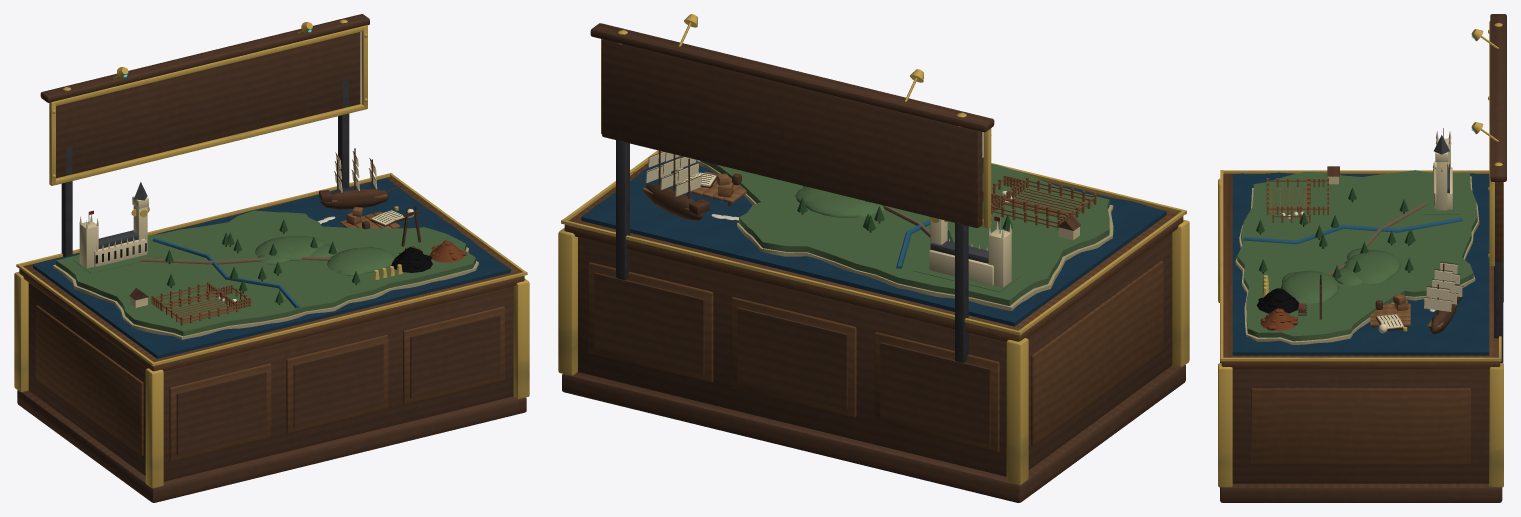
Rendered from england_diorama.glb.
3 renders of one model, left to right at view 1: azimuth 30°, elevation 25°; view 2: azimuth 150°, elevation 25°; view 3: azimuth 270°, elevation 25°, orthographic. The views are drawn at different scales.
Parts seen in each view (by area): view 1: mrg_england_diorama_woodDark, mrg_england_diorama_land, mrg_england_diorama_oakPainted, mrg_england_diorama_brass, mrg_england_diorama_sea, mrg_parliament_stoneBeige, mrg_fence_wood, mrg_england_diorama_iron, landShore, mrg_ship_woodDark, mrg_england_diorama_tree, mrg_england_diorama_coalLump (+5 smaller); view 2: mrg_england_diorama_woodDark, mrg_england_diorama_oakPainted, mrg_england_diorama_land, mrg_england_diorama_brass, mrg_england_diorama_sea, mrg_england_diorama_iron, mrg_fence_wood, mrg_parliament_stoneBeige, landShore, mrg_ship_woodDark, mrg_ship_canvas, mrg_england_diorama_wood; view 3: mrg_england_diorama_land, mrg_england_diorama_oakPainted, mrg_england_diorama_woodDark, mrg_england_diorama_sea, mrg_england_diorama_brass, mrg_ship_canvas, mrg_fence_wood, landShore, mrg_parliament_stoneBeige, mrg_england_diorama_tree, river, mrg_england_diorama_iron (+6 smaller).
Part boxes in pixels (left/top/right/bottom): mrg_england_diorama_woodDark: left=17, top=14, right=526, bottom=502; mrg_england_diorama_land: left=56, top=210, right=475, bottom=336; mrg_england_diorama_oakPainted: left=19, top=177, right=524, bottom=461; mrg_england_diorama_brass: left=14, top=19, right=529, bottom=488; mrg_england_diorama_sea: left=33, top=178, right=510, bottom=358; mrg_parliament_stoneBeige: left=79, top=196, right=148, bottom=268; mrg_fence_wood: left=151, top=282, right=251, bottom=325; mrg_england_diorama_iron: left=61, top=79, right=349, bottom=256; landShore: left=52, top=247, right=478, bottom=339; mrg_ship_woodDark: left=319, top=148, right=402, bottom=209; mrg_england_diorama_tree: left=165, top=219, right=360, bottom=303; mrg_england_diorama_coalLump: left=391, top=247, right=432, bottom=272; mrg_england_diorama_woodDark: left=562, top=23, right=1185, bottom=502; mrg_england_diorama_oakPainted: left=564, top=163, right=1183, bottom=452; mrg_england_diorama_land: left=700, top=160, right=1109, bottom=305; mrg_england_diorama_brass: left=558, top=14, right=1189, bottom=484; mrg_england_diorama_sea: left=581, top=156, right=1166, bottom=326; mrg_england_diorama_iron: left=616, top=139, right=968, bottom=362; mrg_fence_wood: left=982, top=175, right=1096, bottom=230; mrg_parliament_stoneBeige: left=929, top=217, right=1011, bottom=287; landShore: left=697, top=160, right=1113, bottom=310; mrg_ship_woodDark: left=633, top=150, right=709, bottom=220; mrg_ship_canvas: left=645, top=152, right=701, bottom=196; mrg_england_diorama_wood: left=688, top=171, right=746, bottom=203; mrg_england_diorama_land: left=1237, top=170, right=1477, bottom=341; mrg_england_diorama_oakPainted: left=1221, top=173, right=1500, bottom=464; mrg_england_diorama_woodDark: left=1220, top=14, right=1506, bottom=502; mrg_england_diorama_sea: left=1232, top=172, right=1489, bottom=355; mrg_england_diorama_brass: left=1218, top=21, right=1503, bottom=487; mrg_ship_canvas: left=1424, top=263, right=1462, bottom=311; mrg_fence_wood: left=1266, top=178, right=1328, bottom=222; landShore: left=1235, top=176, right=1479, bottom=344; mrg_parliament_stoneBeige: left=1433, top=131, right=1452, bottom=210; mrg_england_diorama_tree: left=1256, top=187, right=1415, bottom=277; river: left=1243, top=217, right=1462, bottom=244; mrg_england_diorama_iron: left=1494, top=261, right=1503, bottom=362.
Size of the model in its own units: 2.46 by 2.01 by 1.58.
Materials: 27 (11 with a texture image).
